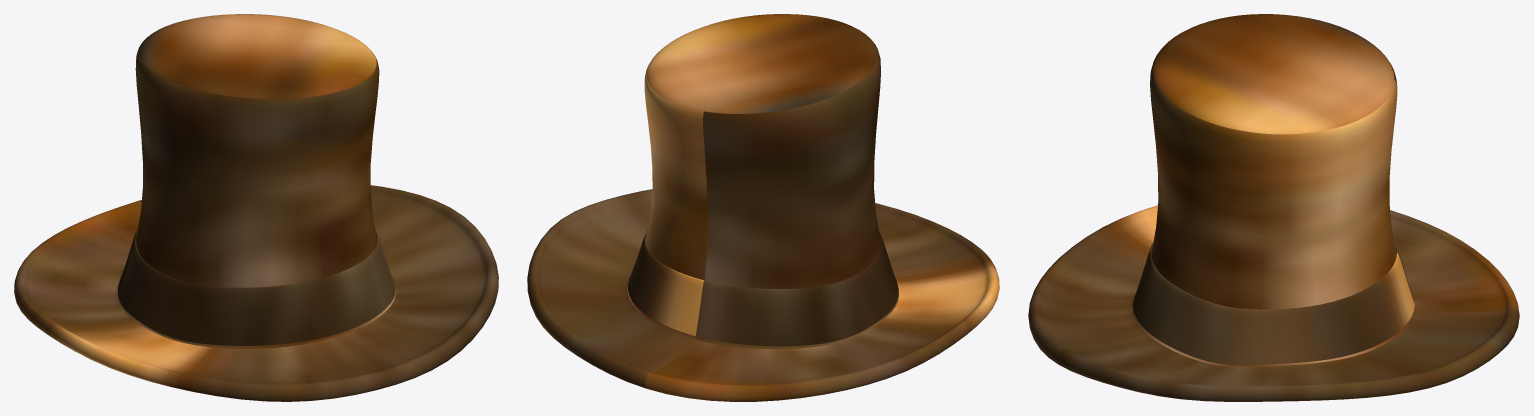
File: hat2.obj
3 views of the same model, side by side, from view 1: azimuth 30°, elevation 25°; view 2: azimuth 150°, elevation 25°; view 3: azimuth 270°, elevation 25° (orthographic). The views are drawn at different scales.
Parts seen in each view (by area): view 1: hat; view 2: hat; view 3: hat.
Part boxes in pixels (x1,y1,x2,y2): hat: [14, 14, 498, 401]; hat: [527, 14, 999, 401]; hat: [1028, 14, 1519, 401].
Bounding box in the file's own units: 1.65 × 1.01 × 1.65.
Materials: 1 (1 with a texture image).
